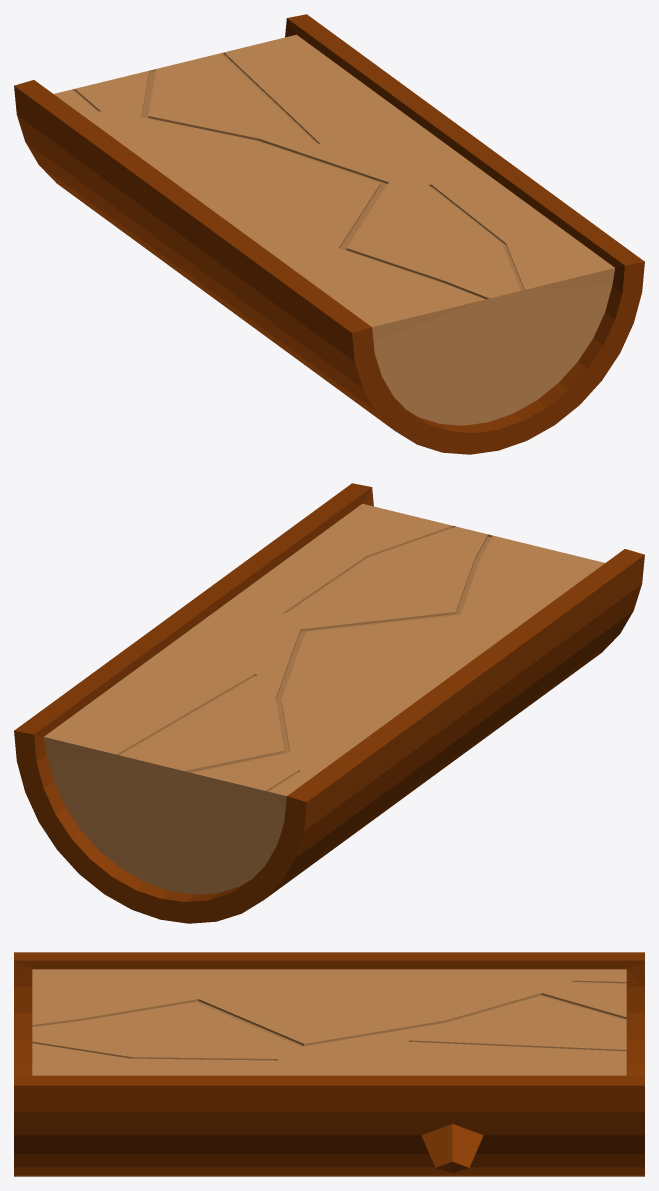
File: log.dae
3 views of the same model, one above another, from view 1: azimuth 30°, elevation 25°; view 2: azimuth 150°, elevation 25°; view 3: azimuth 270°, elevation 25° (orthographic). The views are drawn at different scales.
Parts seen in each view (by area): view 1: Cylinder; view 2: Cylinder; view 3: Cylinder.
Part boxes in pixels (x1,y1,x2,y2): Cylinder: (14,14,644,454); Cylinder: (14,483,644,923); Cylinder: (14,952,644,1176).
Bounding box in the file's own units: 1.1 × 2 × 0.5034.
